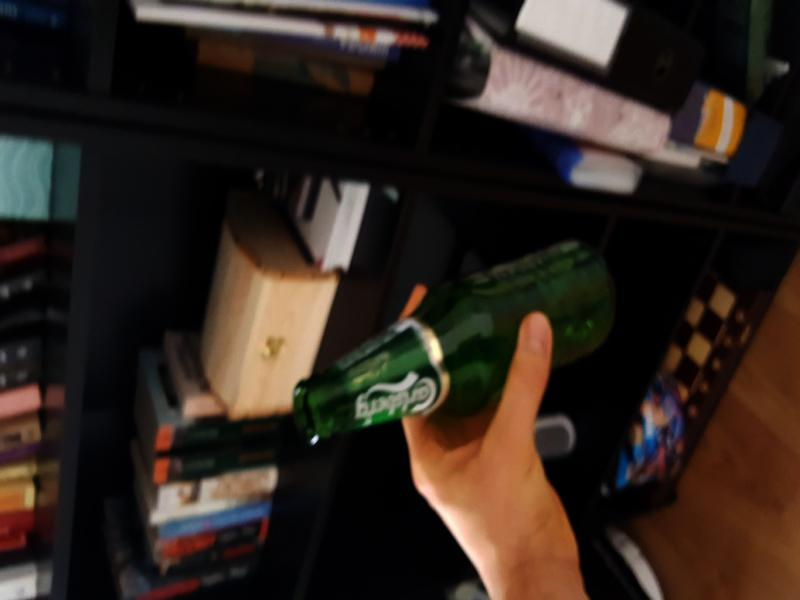Beer: (294, 234, 616, 440)
